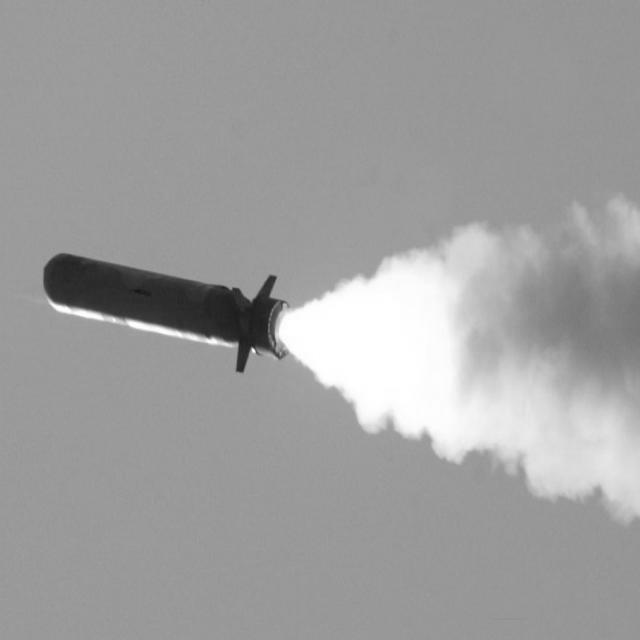missile: (21, 241, 306, 400)
